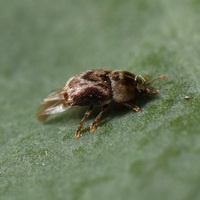insect: (37, 69, 166, 137)
